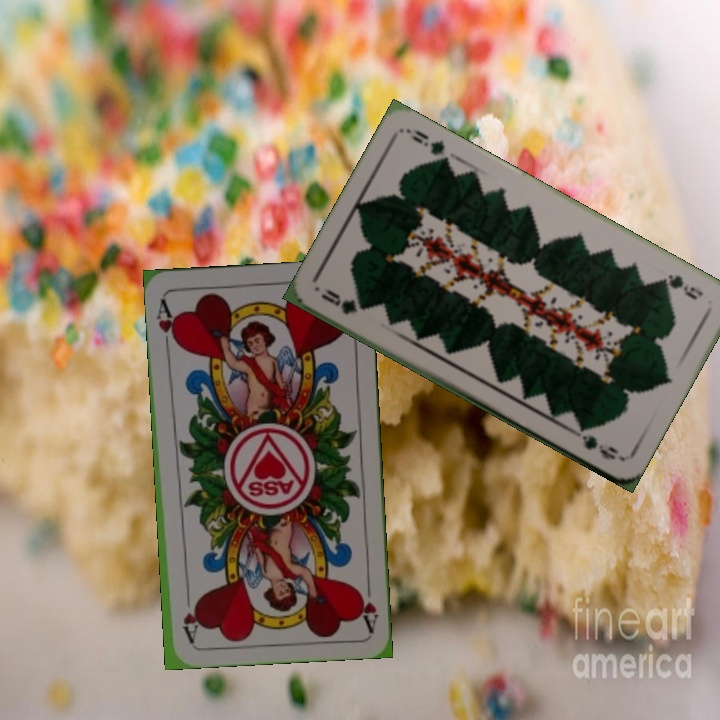G9: (317, 285, 371, 318), (653, 270, 706, 303)
HA: (152, 295, 181, 353), (354, 573, 381, 632)
